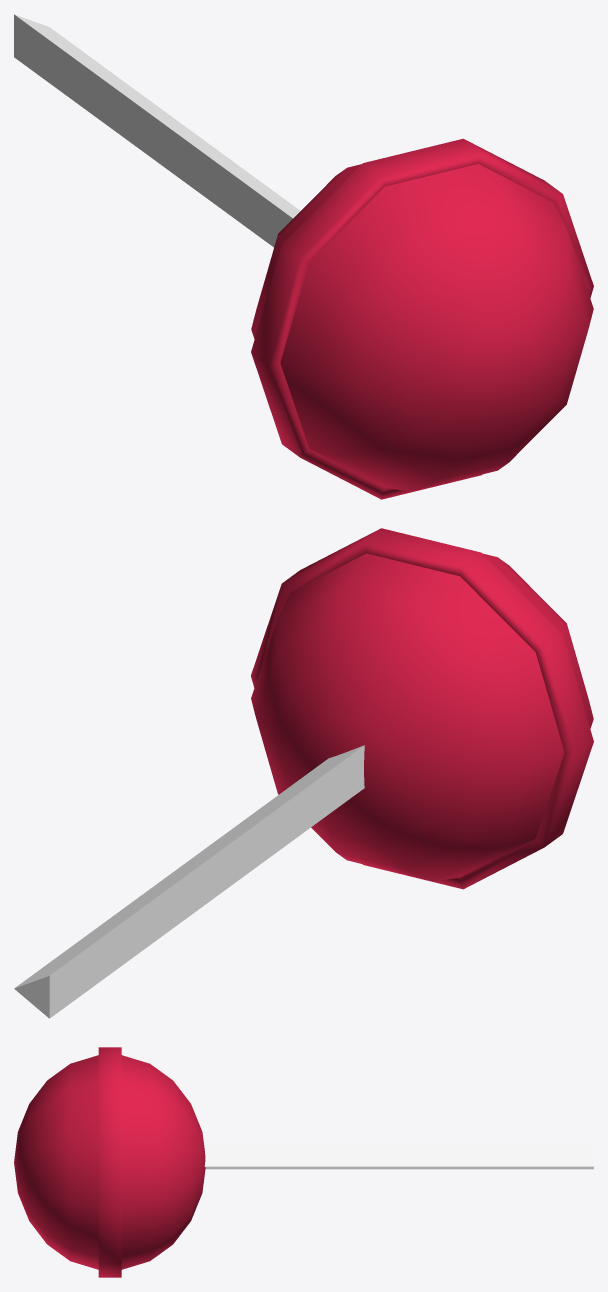
Rendered from LolliPop_01.obj.
The picture shows the model from 3 angles, top to bottom: view 1: azimuth 30°, elevation 25°; view 2: azimuth 150°, elevation 25°; view 3: azimuth 270°, elevation 25°; orthographic projection. The views are drawn at different scales.
Visible parts, largest first — view 1: pCylinder59; view 2: pCylinder59; view 3: pCylinder59.
Part boxes in pixels (left/top/right/bottom): pCylinder59: left=14, top=14, right=593, bottom=499; pCylinder59: left=14, top=528, right=593, bottom=1018; pCylinder59: left=14, top=1047, right=593, bottom=1277.
Size of the model in its own units: 47.85 by 45.51 by 120.
